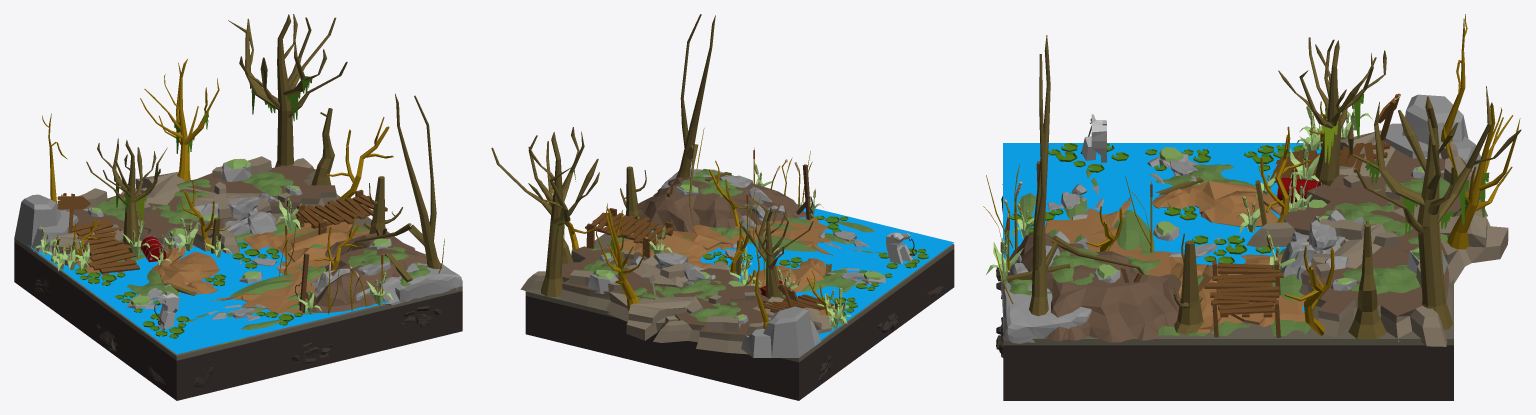
File: Swamp.fbx
The picture shows the model from 3 angles, left to right: view 1: azimuth 30°, elevation 25°; view 2: azimuth 150°, elevation 25°; view 3: azimuth 270°, elevation 25°; orthographic projection. The views are drawn at different scales.
Parts seen in each view (by area): view 1: Cube, LowPolyWaterv2, Terrain_Rock_Mound_Shelf_01, Vegetation_Modular_Tree_Trunk_Common_25, Terrain_Rock_Mound_Shelf_Grass_01, Terrain_Rock_Mound_Shelf_Grass_01 (1), Terrain_Rock_Mound_01, Cube (1), Vegetation_Modular_Tree_Trunk_Common_18, Rock_Large_15, Prop_Walkway_Timber_Simple_01 (1), Vegetation_Modular_Tree_Trunk_Banyan_03 (+25 smaller); view 2: Cube, LowPolyWaterv2, Terrain_Rock_Mound_01, Terrain_Rock_Mound_Shelf_Grass_01 (1), Terrain_Rock_Mound_Shelf_01, Terrain_Rock_Mound_Shelf_Grass_01 (2), Vegetation_Modular_Tree_Trunk_Common_25, Terrain_Rock_Mound_Shelf_Grass_01, Rock_Large_15, Vegetation_Modular_Tree_Trunk_Common_18, Cube (1), Vegetation_Modular_Tree_Trunk_Banyan_03 (+13 smaller); view 3: Cube, LowPolyWaterv2, Terrain_Rock_Mound_01, Terrain_Rock_Mound_Shelf_01, Vegetation_Modular_Tree_Trunk_Common_25, Terrain_Rock_Mound_Shelf_Grass_01, Terrain_Rock_Mound_Shelf_Grass_01 (1), Cube (1), Vegetation_Modular_Tree_Trunk_Common_18, Vegetation_Modular_Tree_Trunk_Banyan_03, Terrain_Plane_Rock_Uneven_Large_01, Prop_Walkway_Timber_Simple_01 (+22 smaller).
Boxes of the visible parts, x1,y1,x2,y2 form: Cube: (14, 242, 462, 400); LowPolyWaterv2: (28, 214, 388, 354); Terrain_Rock_Mound_Shelf_01: (151, 214, 369, 314); Vegetation_Modular_Tree_Trunk_Common_25: (228, 14, 347, 167); Terrain_Rock_Mound_Shelf_Grass_01: (176, 156, 339, 221); Terrain_Rock_Mound_Shelf_Grass_01 (1): (135, 172, 239, 253); Terrain_Rock_Mound_01: (311, 233, 426, 314); Cube (1): (14, 195, 462, 360); Vegetation_Modular_Tree_Trunk_Common_18: (346, 93, 442, 268); Rock_Large_15: (14, 194, 88, 254); Prop_Walkway_Timber_Simple_01 (1): (71, 219, 139, 275); Vegetation_Modular_Tree_Trunk_Banyan_03: (86, 138, 167, 252); Cube: (525, 249, 954, 400); LowPolyWaterv2: (622, 204, 954, 346); Terrain_Rock_Mound_01: (638, 177, 806, 233); Terrain_Rock_Mound_Shelf_Grass_01 (1): (605, 261, 761, 340); Terrain_Rock_Mound_Shelf_01: (607, 217, 833, 292); Terrain_Rock_Mound_Shelf_Grass_01 (2): (653, 292, 831, 354); Vegetation_Modular_Tree_Trunk_Common_25: (491, 127, 599, 296); Terrain_Rock_Mound_Shelf_Grass_01: (520, 246, 687, 309); Rock_Large_15: (739, 306, 821, 357); Vegetation_Modular_Tree_Trunk_Common_18: (676, 14, 715, 227); Cube (1): (525, 233, 954, 362); Vegetation_Modular_Tree_Trunk_Banyan_03: (739, 198, 813, 298); Cube: (1003, 345, 1453, 400); LowPolyWaterv2: (1003, 143, 1321, 312); Terrain_Rock_Mound_01: (1009, 232, 1181, 342); Terrain_Rock_Mound_Shelf_01: (1032, 181, 1305, 333); Vegetation_Modular_Tree_Trunk_Common_25: (1347, 86, 1521, 330); Terrain_Rock_Mound_Shelf_Grass_01: (1299, 223, 1452, 346); Terrain_Rock_Mound_Shelf_Grass_01 (1): (1246, 184, 1508, 283); Cube (1): (1003, 279, 1453, 345); Vegetation_Modular_Tree_Trunk_Common_18: (1029, 35, 1144, 316); Vegetation_Modular_Tree_Trunk_Banyan_03: (1278, 37, 1386, 186); Terrain_Plane_Rock_Uneven_Large_01: (1018, 164, 1310, 336); Prop_Walkway_Timber_Simple_01: (1204, 263, 1283, 317).
Bounding box in the file's own units: 12.63 × 8.48 × 12.5.
